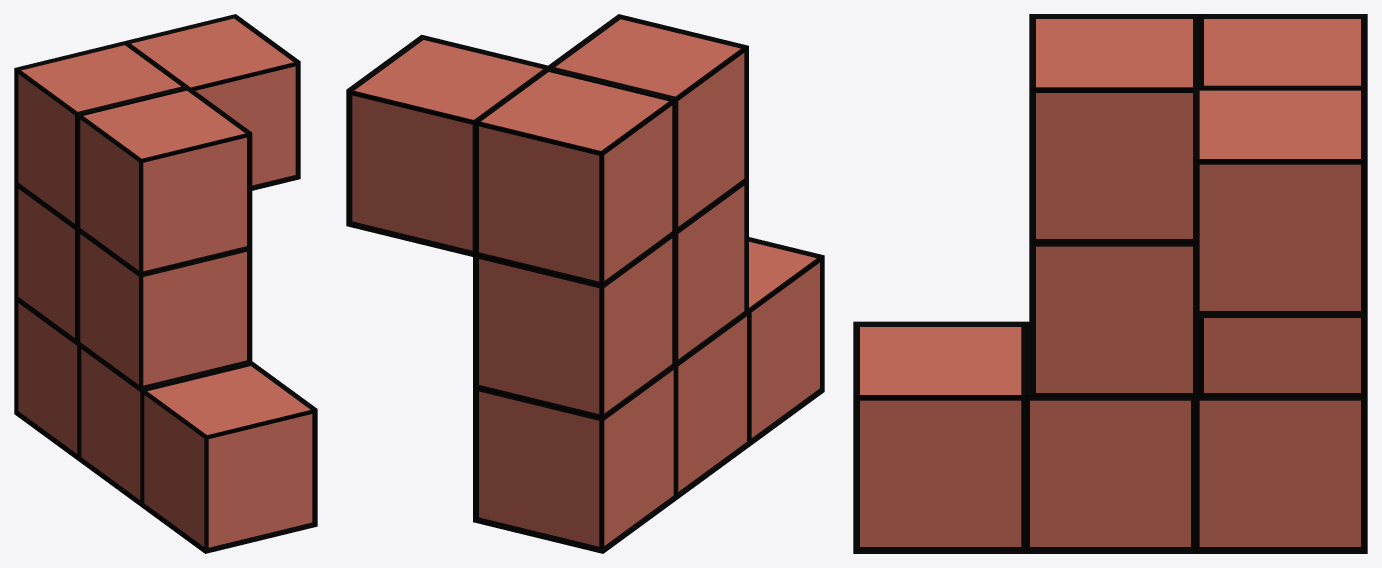
3 views of the same model, side by side, from view 1: azimuth 30°, elevation 25°; view 2: azimuth 150°, elevation 25°; view 3: azimuth 270°, elevation 25° (orthographic). The views are drawn at different scales.
Parts seen in each view (by area): view 1: c3:Mesh; view 2: c3:Mesh; view 3: c3:Mesh.
Part boxes in pixels (bbox=[...]): c3:Mesh: bbox=[14, 14, 317, 553]; c3:Mesh: bbox=[346, 14, 824, 553]; c3:Mesh: bbox=[853, 14, 1367, 553].
Size of the model in its own units: 4.06 by 6.06 by 6.06.
